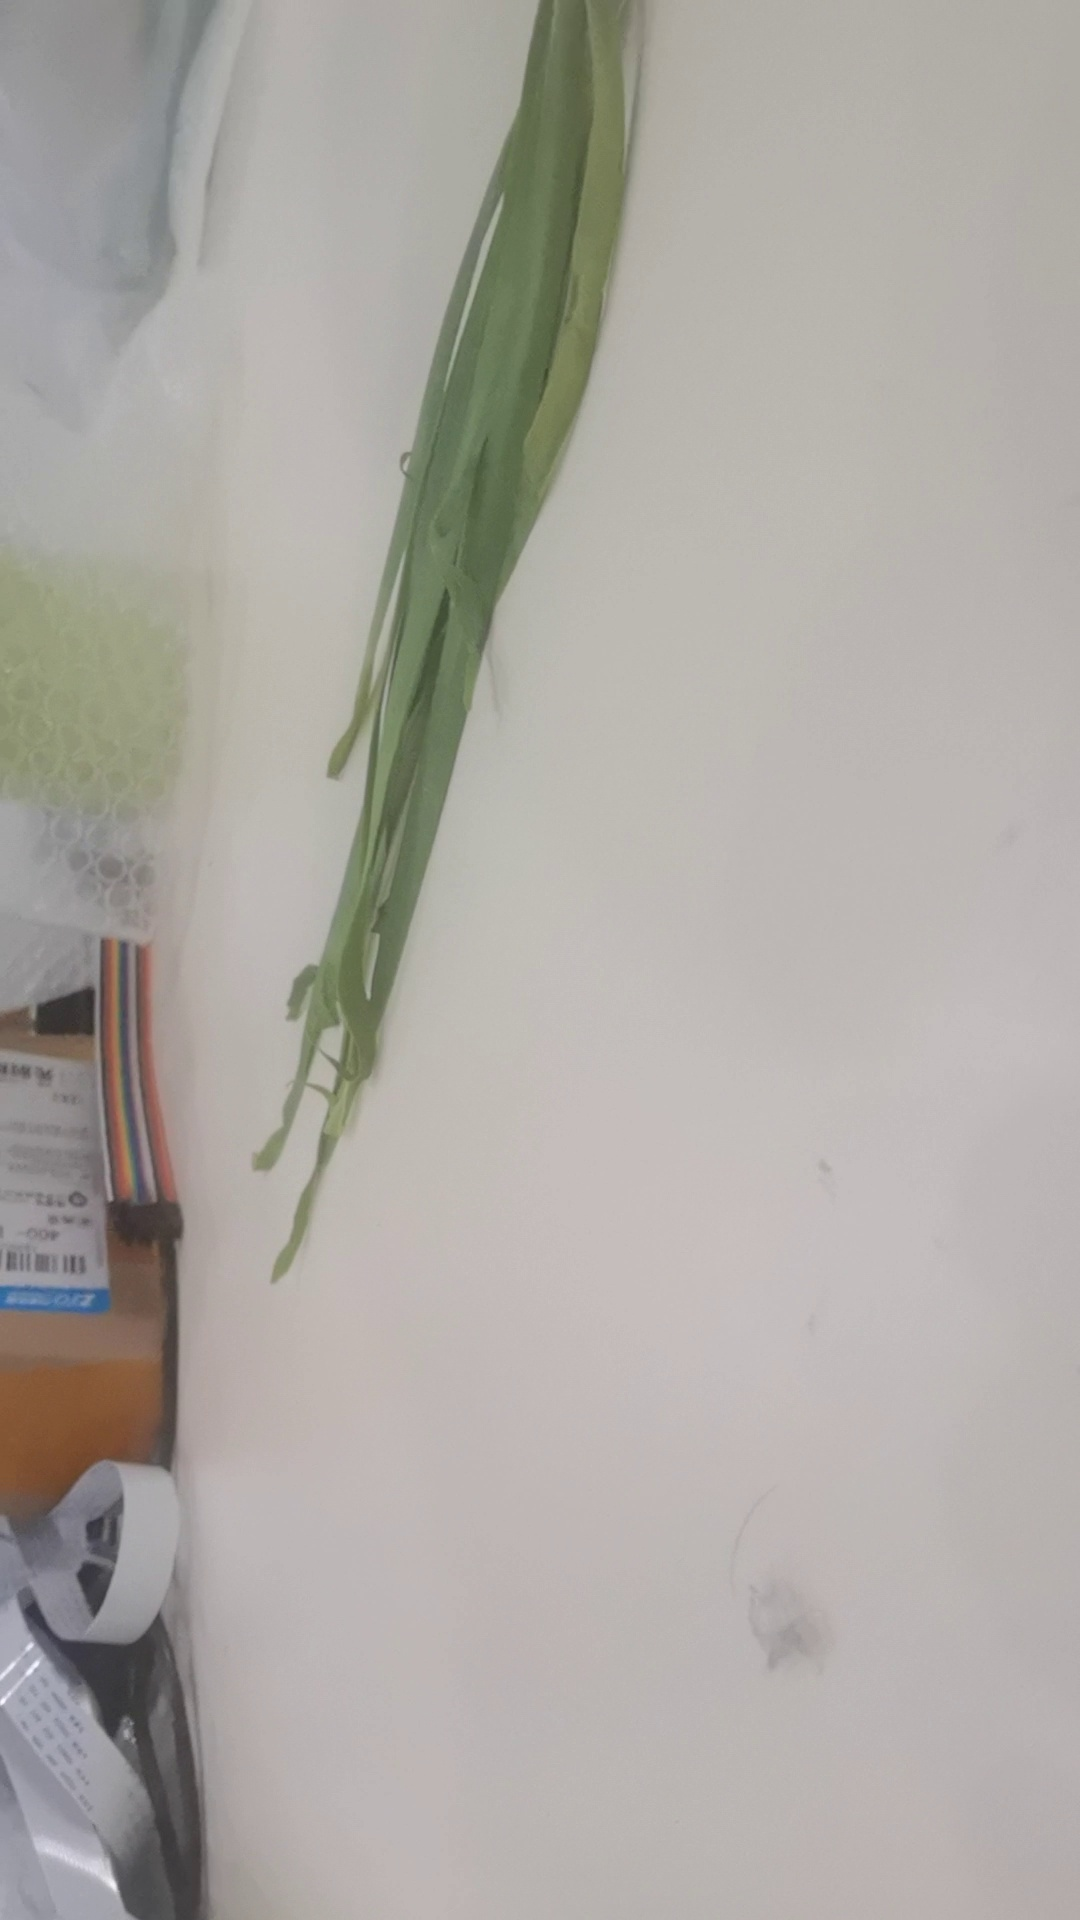chives: (262, 29, 630, 1290)
